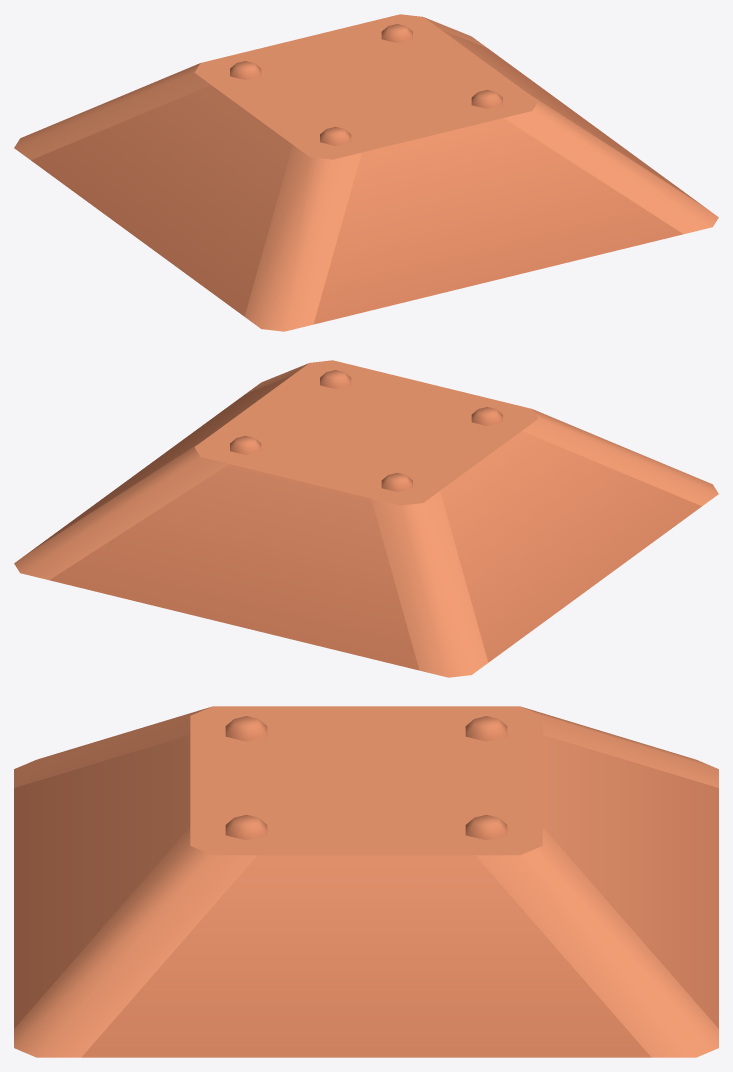
The model's file is obstacle-box.glb.
3 renders of one model, top to bottom at view 1: azimuth 30°, elevation 25°; view 2: azimuth 150°, elevation 25°; view 3: azimuth 270°, elevation 25°, orthographic. The views are drawn at different scales.
Visible parts, largest first — view 1: obstacle-box; view 2: obstacle-box; view 3: obstacle-box.
Boxes of the visible parts, box(x1,y1,x2,y2) form: obstacle-box: box(14, 14, 718, 331); obstacle-box: box(14, 360, 718, 677); obstacle-box: box(14, 706, 718, 1057).
Size of the model in its own units: 1 by 0.2149 by 1.
Materials: 1 (1 with a texture image).
